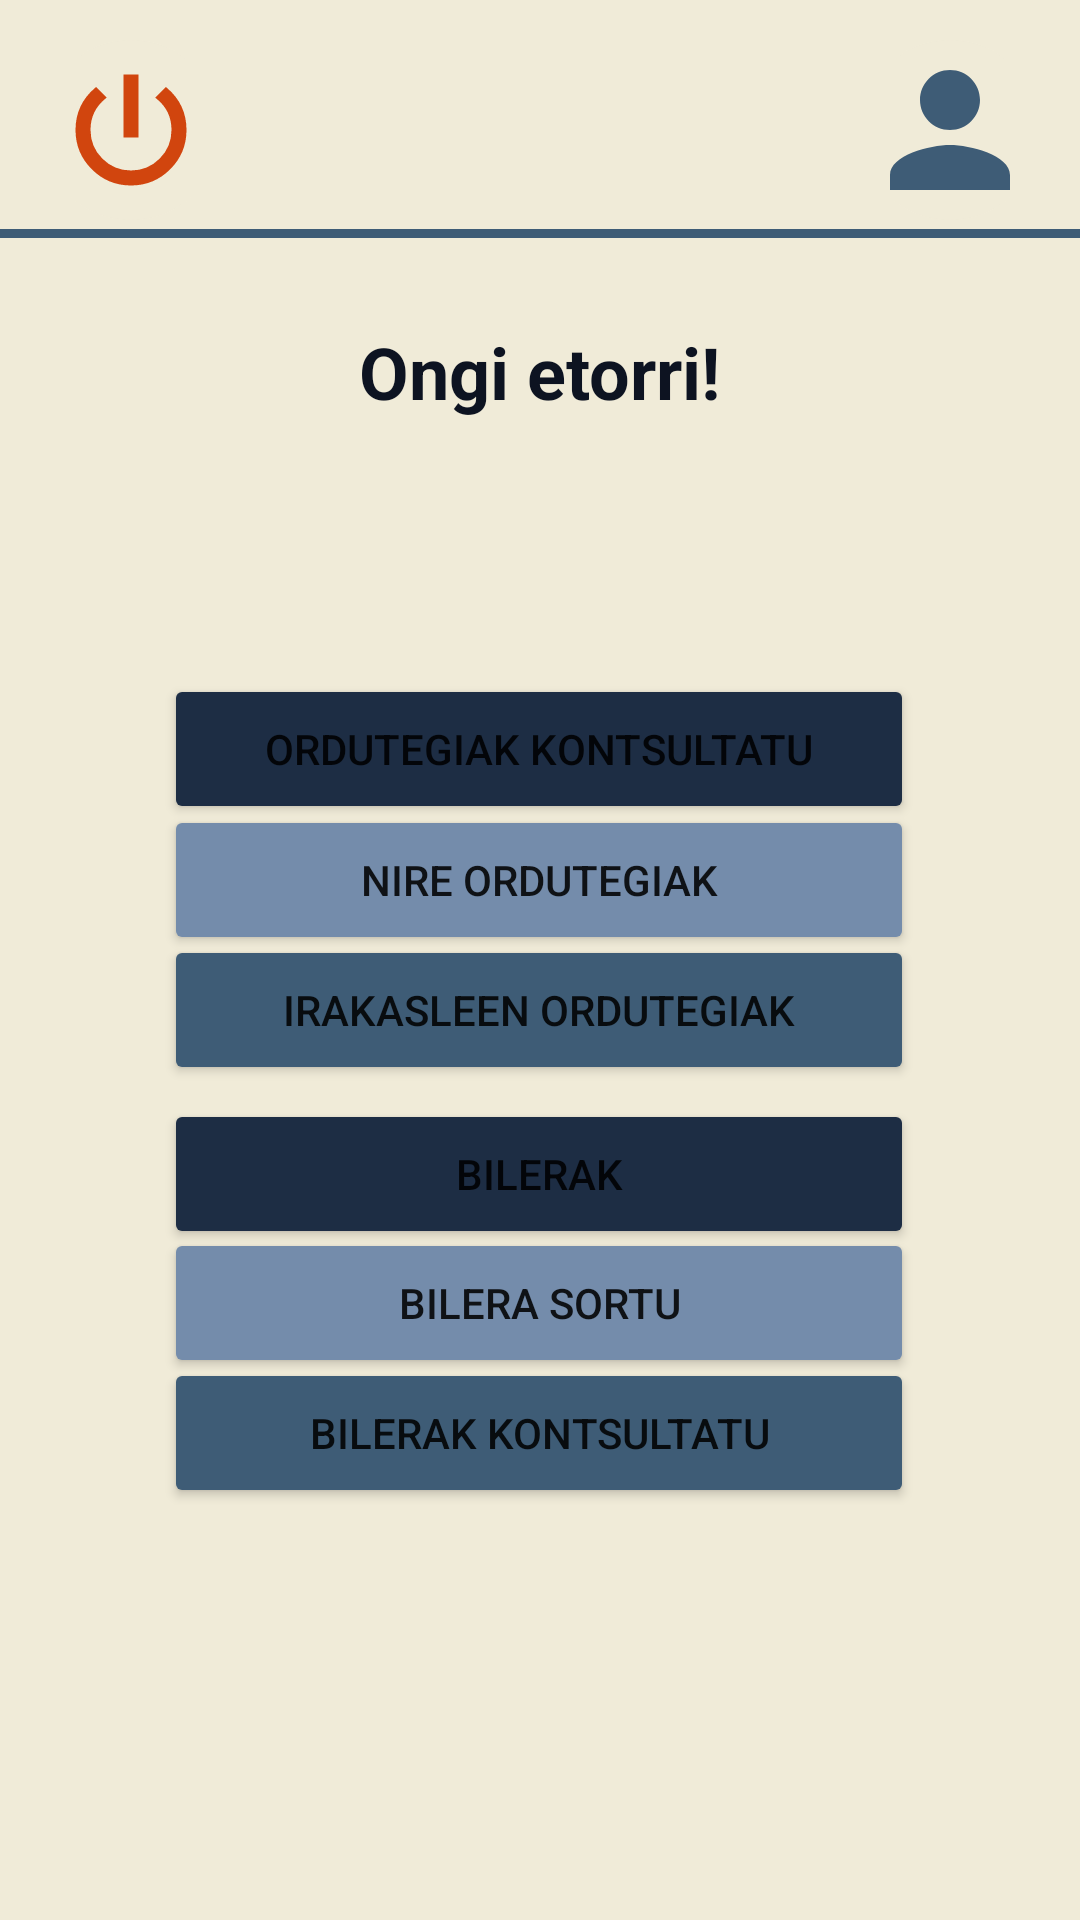

Icons on this 1080w x 1920h Android screen, each with the point to tap as (x=x, y=y):
Deskonektatzeko botoia: (x=131, y=130)
Erabiltzaile-profilaren botoia: (x=950, y=130)
